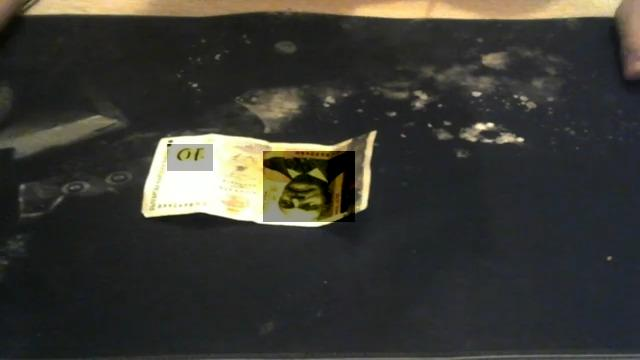10leva: (263, 152, 355, 222), (167, 144, 213, 171)
